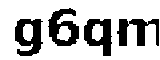6: (48, 6, 80, 51)
g: (11, 16, 45, 60)
m: (116, 16, 160, 53)
q: (82, 18, 113, 60)
